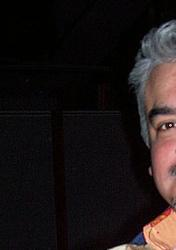person: (8, 12, 176, 250)
